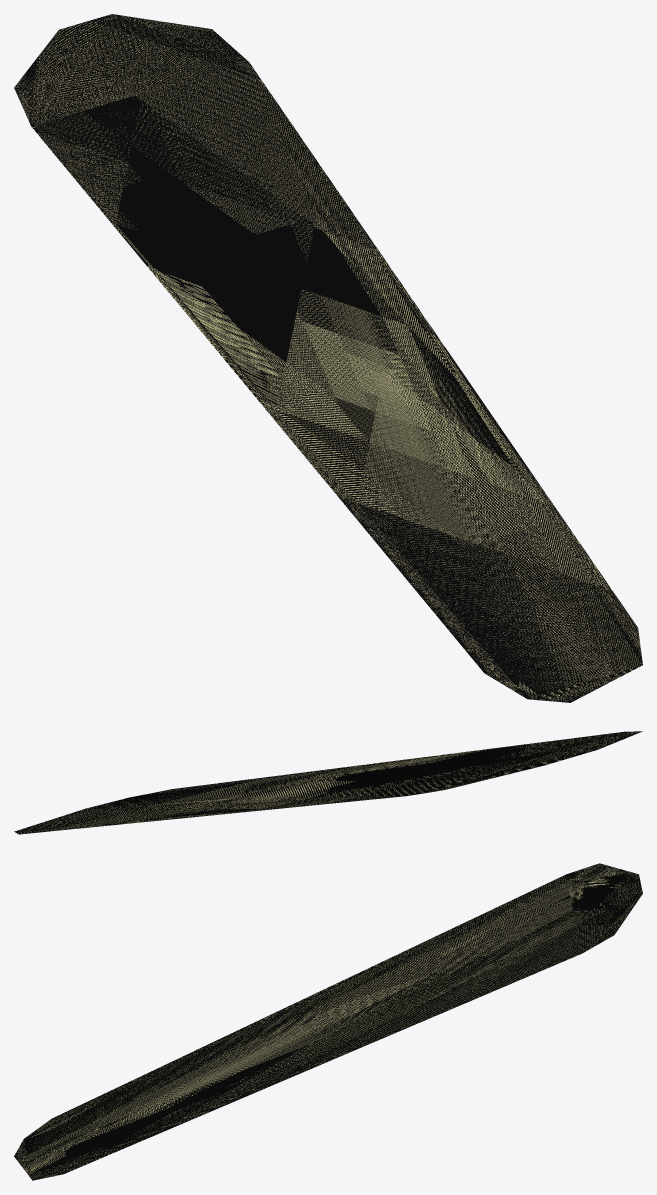
Rendered from original-34.obj.
The picture shows the model from 3 angles, top to bottom: view 1: azimuth 30°, elevation 25°; view 2: azimuth 210°, elevation 25°; view 3: azimuth 270°, elevation 25°; orthographic projection. The views are drawn at different scales.
Parts seen in each view (by area): view 1: mesh51/mesh51-geometry#mesh51-geometry; view 2: mesh51/mesh51-geometry#mesh51-geometry; view 3: mesh51/mesh51-geometry#mesh51-geometry.
Boxes of the visible parts, x1=… form: mesh51/mesh51-geometry#mesh51-geometry: x1=14, y1=14, x2=642, y2=702; mesh51/mesh51-geometry#mesh51-geometry: x1=14, y1=731, x2=642, y2=834; mesh51/mesh51-geometry#mesh51-geometry: x1=14, y1=863, x2=642, y2=1180.
Bounding box in the file's own units: 0.0186 × 0.0259 × 0.0572.
